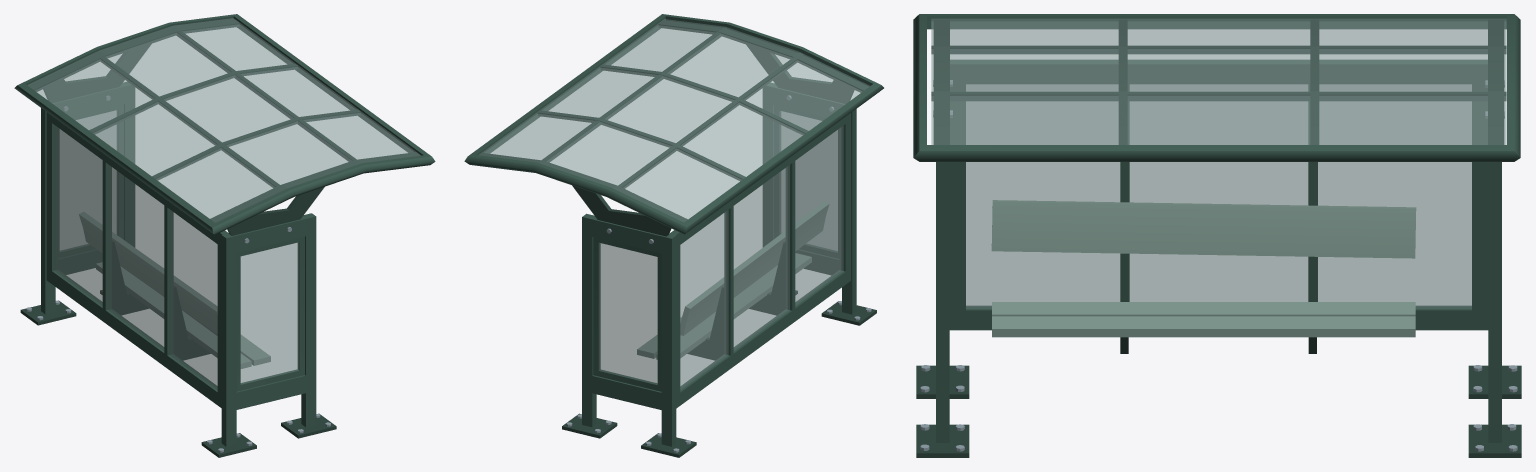
File: TramStop.fbx
The picture shows the model from 3 angles, left to right: view 1: azimuth 30°, elevation 25°; view 2: azimuth 150°, elevation 25°; view 3: azimuth 270°, elevation 25°; orthographic projection. The views are drawn at different scales.
Parts seen in each view (by area): view 1: bus_station; view 2: bus_station; view 3: bus_station.
Part boxes in pixels (x1=…): bus_station: x1=14, y1=14, x2=435, y2=457; bus_station: x1=464, y1=14, x2=883, y2=457; bus_station: x1=913, y1=14, x2=1521, y2=457.
Bounding box in the file's own units: 171 × 189 × 266.
